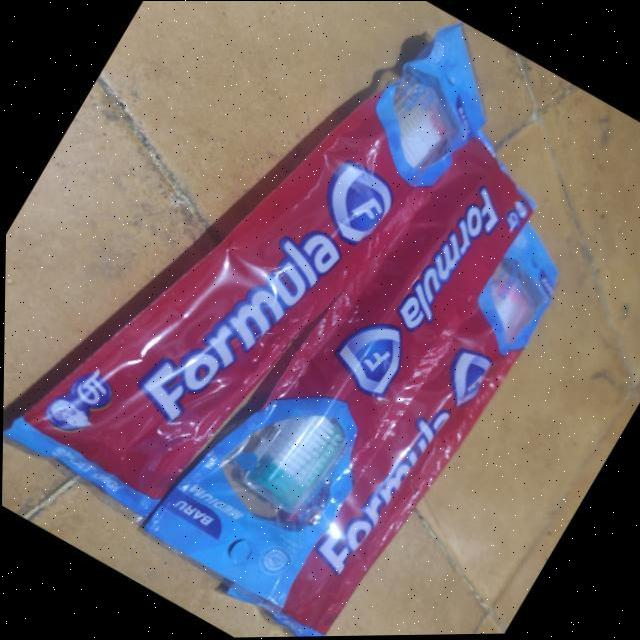toothbrush: (92, 84, 450, 462), (220, 178, 507, 528), (300, 280, 546, 588)
